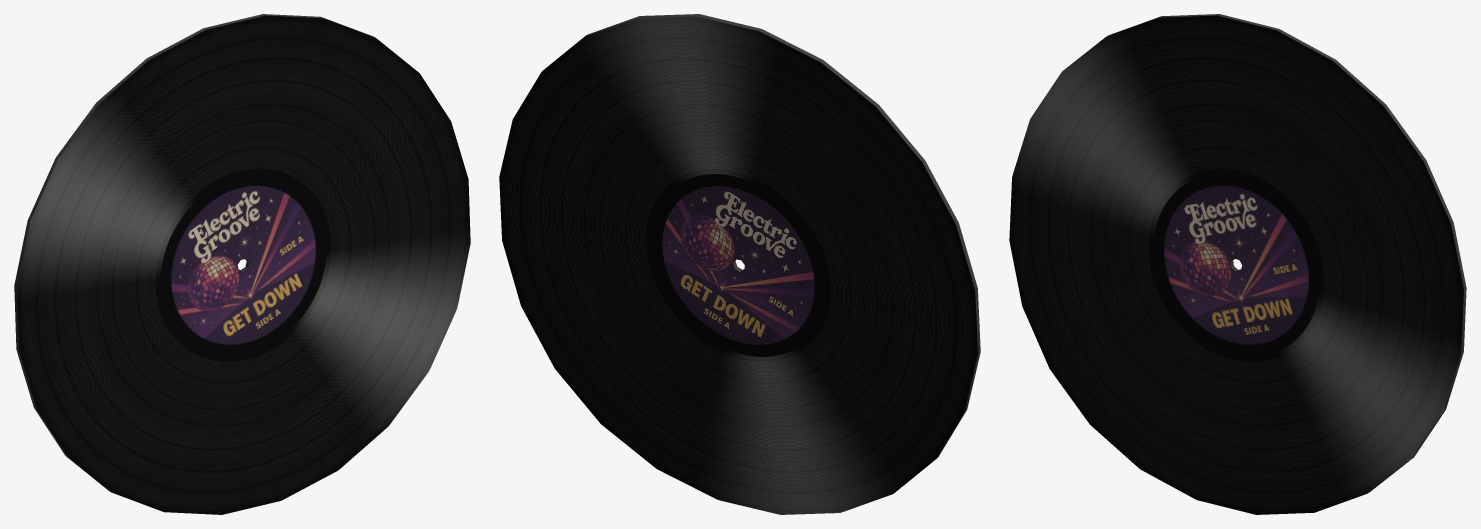
The model's file is vinylrecord.glb.
The picture shows the model from 3 angles, left to right: view 1: azimuth 30°, elevation 25°; view 2: azimuth 150°, elevation 25°; view 3: azimuth 330°, elevation 25°; orthographic projection. The views are drawn at different scales.
Parts seen in each view (by area): view 1: vinylalbumRecord; view 2: vinylalbumRecord; view 3: vinylalbumRecord.
Boxes of the visible parts, x1,y1,x2,y2 form: vinylalbumRecord: [14, 14, 470, 514]; vinylalbumRecord: [499, 14, 980, 514]; vinylalbumRecord: [1009, 14, 1466, 514].
Size of the model in its own units: 0.4564 by 0.4556 by 0.036.
Materials: 1 (1 with a texture image).
